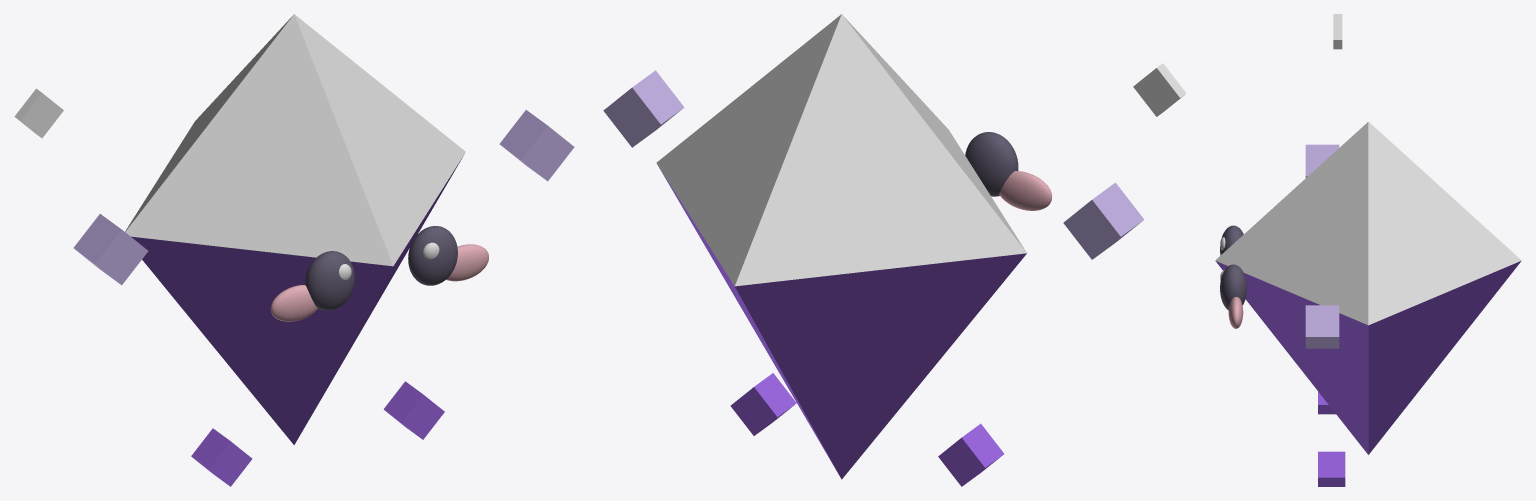
The model's file is kiratsubu_lavender.glb.
The picture shows the model from 3 angles, left to right: view 1: azimuth 30°, elevation 25°; view 2: azimuth 150°, elevation 25°; view 3: azimuth 270°, elevation 25°; orthographic projection. The views are drawn at different scales.
Visible parts, largest first — view 1: kiratsubu_0, kiratsubu_1, kiratsubu_2, kiratsubu_3, kiratsubu_10, kiratsubu_7, kiratsubu_5, kiratsubu_4, kiratsubu_6, kiratsubu_9, kiratsubu_12; view 2: kiratsubu_0, kiratsubu_1, kiratsubu_2, kiratsubu_3, kiratsubu_7, kiratsubu_4, kiratsubu_5, kiratsubu_9, kiratsubu_6; view 3: kiratsubu_0, kiratsubu_1, kiratsubu_3, kiratsubu_5, kiratsubu_10, kiratsubu_2, kiratsubu_12, kiratsubu_6, kiratsubu_7.
Part boxes in pixels (x1,y1,x2,y2): kiratsubu_0: [125, 14, 465, 266]; kiratsubu_1: [131, 155, 463, 444]; kiratsubu_2: [73, 214, 148, 285]; kiratsubu_3: [499, 110, 574, 181]; kiratsubu_10: [408, 226, 457, 285]; kiratsubu_7: [305, 251, 354, 310]; kiratsubu_5: [383, 381, 444, 439]; kiratsubu_4: [191, 428, 252, 486]; kiratsubu_6: [14, 88, 63, 138]; kiratsubu_9: [270, 285, 317, 321]; kiratsubu_12: [446, 244, 488, 281]; kiratsubu_0: [656, 14, 1026, 286]; kiratsubu_1: [657, 164, 1026, 479]; kiratsubu_2: [1063, 182, 1144, 259]; kiratsubu_3: [603, 70, 684, 147]; kiratsubu_7: [965, 132, 1018, 196]; kiratsubu_4: [938, 423, 1004, 486]; kiratsubu_5: [730, 373, 796, 435]; kiratsubu_9: [999, 171, 1051, 210]; kiratsubu_6: [1133, 63, 1186, 116]; kiratsubu_0: [1215, 122, 1521, 325]; kiratsubu_1: [1215, 261, 1521, 454]; kiratsubu_3: [1305, 305, 1339, 348]; kiratsubu_5: [1318, 451, 1345, 486]; kiratsubu_10: [1220, 264, 1246, 310]; kiratsubu_2: [1305, 144, 1339, 177]; kiratsubu_12: [1228, 297, 1243, 328]; kiratsubu_6: [1333, 14, 1342, 49]; kiratsubu_7: [1220, 225, 1243, 255].
Bounding box in the file's own units: 1.56 × 1.21 × 1.
